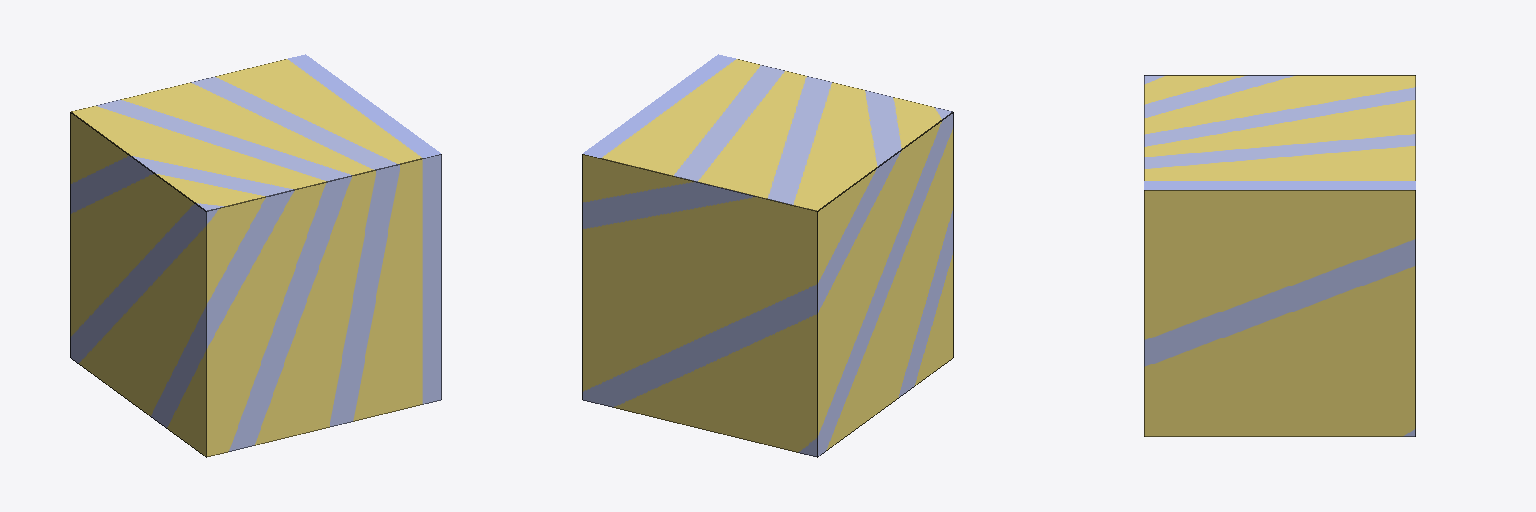
3 renders of one model, left to right at view 1: azimuth 30°, elevation 25°; view 2: azimuth 150°, elevation 25°; view 3: azimuth 270°, elevation 25°, orthographic.
Parts seen in each view (by area): view 1: 立方体; view 2: 立方体; view 3: 立方体.
Part boxes in pixels (x1,y1,x2,y2): 立方体: (70,54,441,457); 立方体: (582,54,953,457); 立方体: (1144,75,1415,436).
Bounding box in the file's own units: 2 × 2 × 2.
Materials: 1 (1 with a texture image).